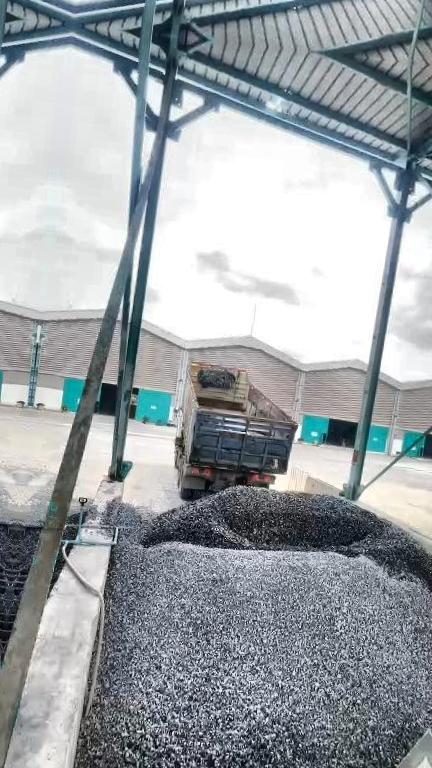gravel: (70, 487, 432, 768), (12, 500, 47, 569), (62, 504, 77, 555)
